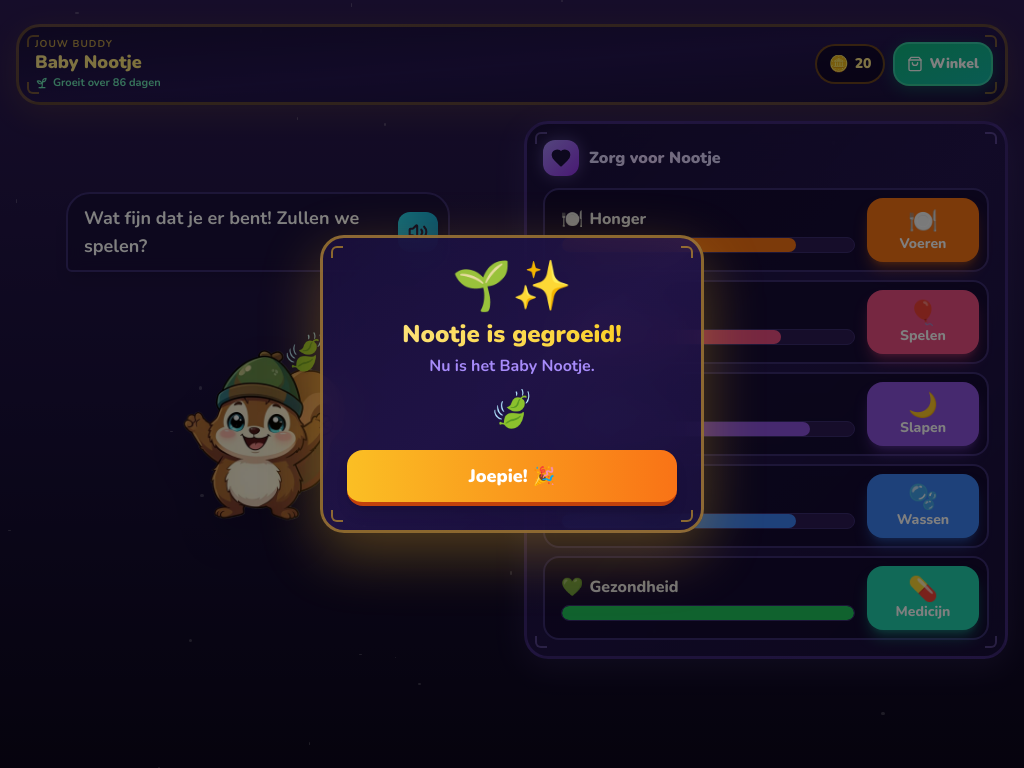
Test: BuddyRoom — the Buddy tab › throws a growth party once when the Buddy has grown since the last visit
This screenshot has width=1024, height=768.
Click the button "Joepie! 🎉" at (512, 478), box [347,450,677,506]
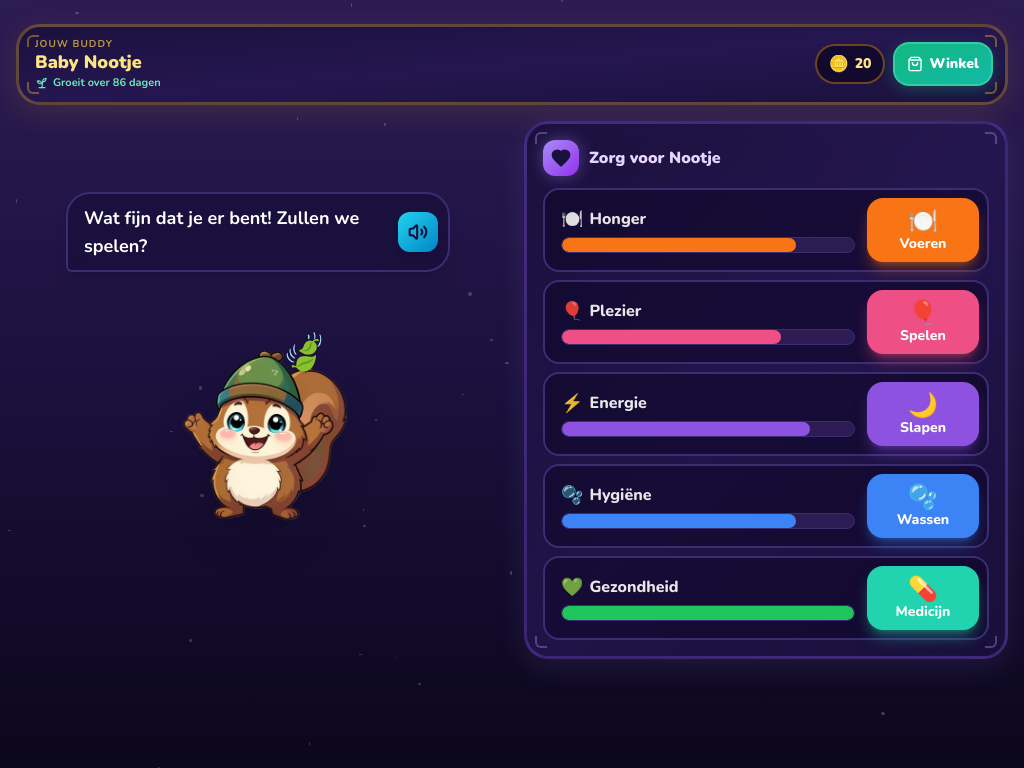
Expected: the heading "gegroeid" is gone
